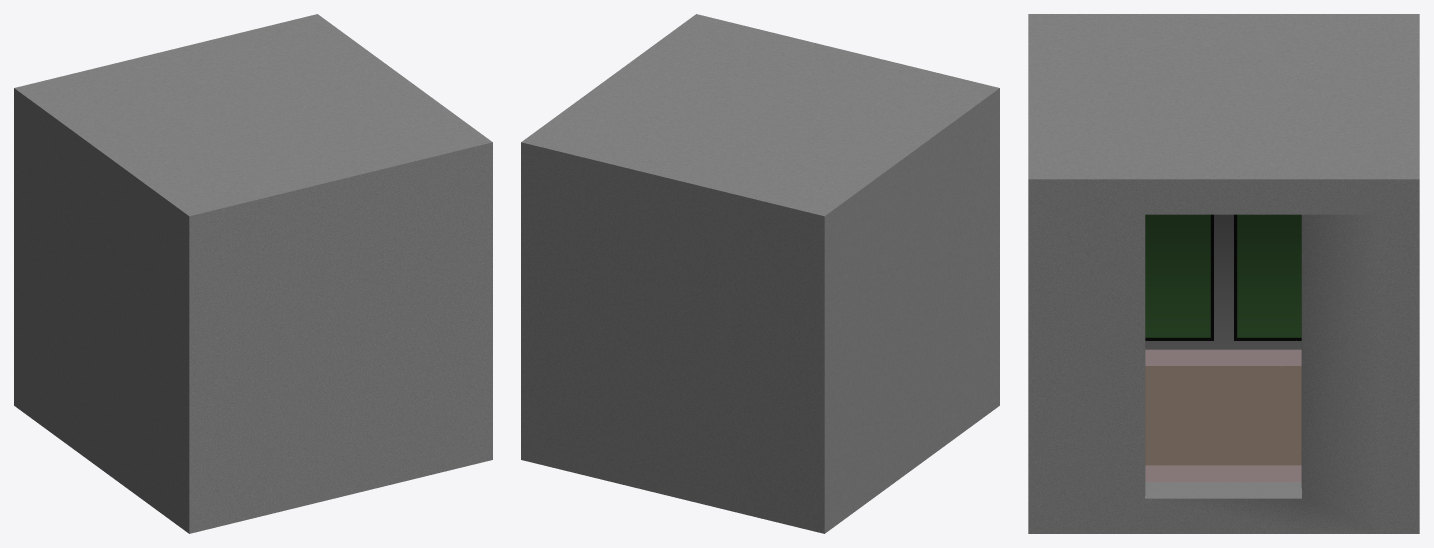
Rendered from Elevator.fbx.
The picture shows the model from 3 angles, left to right: view 1: azimuth 30°, elevation 25°; view 2: azimuth 150°, elevation 25°; view 3: azimuth 270°, elevation 25°; orthographic projection. The views are drawn at different scales.
Visible parts, largest first — view 1: pPlane4; view 2: pPlane4; view 3: pPlane4.
Part boxes in pixels (x1,y1,x2,y2): pPlane4: (14, 14, 492, 533); pPlane4: (521, 14, 999, 533); pPlane4: (1028, 14, 1419, 533).
Size of the model in its own units: 5 by 5 by 5.
4 materials, 4 textured.
